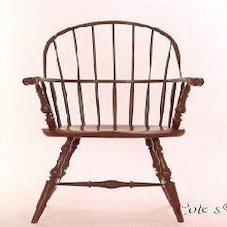chair: (11, 8, 214, 222)
